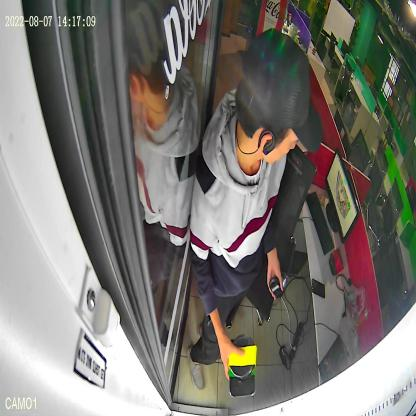green: (228, 339, 256, 398)
yellow: (228, 334, 258, 379)
